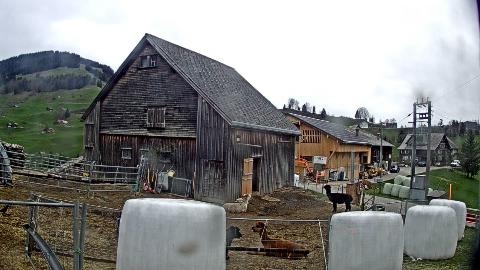car: (390, 166, 400, 172), (451, 160, 460, 166), (418, 162, 426, 166)
sheep: (252, 221, 308, 258), (323, 184, 353, 214), (225, 226, 243, 264), (227, 193, 251, 213), (222, 198, 244, 212)
